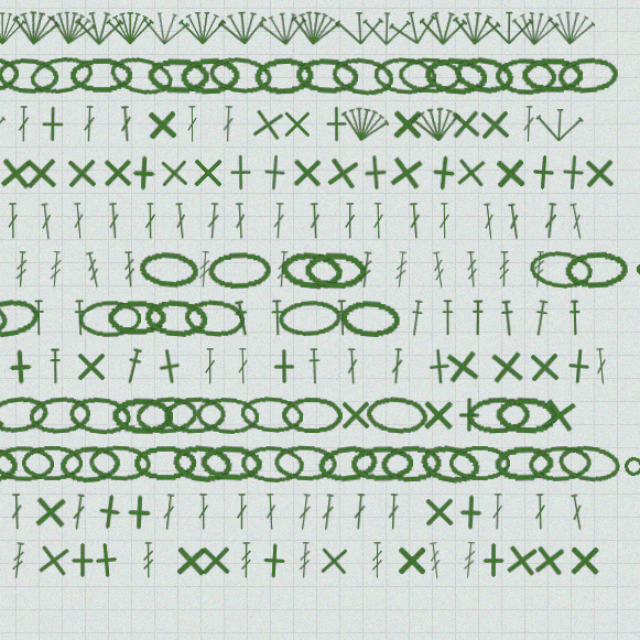chain: (146, 103, 208, 147), (428, 456, 488, 498), (556, 16, 617, 57), (74, 104, 135, 145), (25, 324, 86, 365), (459, 104, 518, 145), (237, 17, 297, 57), (348, 105, 408, 145), (499, 17, 560, 56), (237, 105, 298, 144), (528, 281, 589, 320), (554, 457, 613, 497), (35, 413, 95, 452), (336, 457, 394, 497), (59, 18, 119, 56), (260, 17, 318, 56), (0, 325, 58, 364), (204, 457, 262, 496), (471, 18, 530, 56), (302, 282, 361, 320), (110, 414, 169, 452), (387, 106, 447, 143), (355, 18, 414, 55), (433, 106, 492, 143), (179, 326, 238, 363), (74, 414, 133, 451), (171, 414, 230, 451), (266, 414, 325, 451), (380, 414, 439, 451), (174, 282, 231, 320), (226, 415, 286, 451), (9, 106, 67, 143), (554, 106, 612, 143), (316, 107, 375, 143), (301, 327, 360, 363), (528, 459, 587, 495), (387, 18, 444, 55), (215, 326, 272, 363), (45, 107, 103, 143), (102, 459, 160, 495), (267, 459, 325, 495), (297, 459, 356, 494), (447, 19, 504, 55), (357, 327, 414, 363), (10, 459, 67, 495), (121, 19, 179, 54), (410, 107, 468, 142), (561, 283, 619, 318), (197, 415, 255, 450), (472, 415, 530, 450), (34, 19, 90, 55), (301, 19, 358, 54), (498, 415, 555, 450), (129, 459, 186, 494), (230, 459, 287, 494), (394, 459, 451, 494), (529, 20, 587, 54), (237, 284, 295, 318), (212, 107, 268, 142), (279, 107, 335, 142), (94, 20, 151, 54), (184, 20, 241, 54), (211, 20, 268, 54), (182, 108, 239, 142), (498, 108, 555, 142), (120, 328, 177, 362), (367, 460, 424, 494), (4, 20, 60, 54), (325, 284, 381, 318), (150, 416, 206, 450), (42, 460, 98, 494), (497, 460, 553, 494), (333, 20, 390, 53), (416, 20, 473, 53), (112, 108, 169, 141), (304, 416, 361, 449), (170, 460, 227, 493), (522, 108, 578, 141), (68, 460, 124, 493), (456, 460, 512, 493), (158, 20, 213, 53), (146, 328, 201, 361)
double: (564, 240, 581, 274), (565, 504, 581, 538), (508, 240, 523, 274), (113, 504, 128, 538), (318, 504, 333, 538), (339, 504, 354, 538), (84, 240, 98, 274), (486, 240, 500, 274), (195, 504, 209, 538), (206, 240, 220, 273), (542, 240, 556, 273), (588, 372, 602, 405), (157, 152, 170, 185), (114, 240, 127, 273), (146, 240, 159, 273), (236, 240, 249, 273), (419, 240, 432, 273), (24, 372, 37, 405), (403, 372, 416, 405), (369, 504, 382, 537), (124, 152, 136, 185), (250, 152, 262, 185), (523, 152, 535, 185), (34, 240, 46, 273), (261, 240, 273, 273), (296, 240, 308, 273), (329, 240, 341, 273), (363, 372, 375, 405), (58, 504, 70, 537), (289, 504, 301, 537), (400, 504, 412, 537), (65, 152, 76, 185), (218, 152, 229, 185), (55, 240, 66, 273), (180, 240, 191, 273), (361, 240, 372, 273), (387, 240, 398, 273), (447, 240, 458, 273), (234, 372, 245, 405), (264, 372, 275, 405), (35, 504, 46, 537), (228, 504, 239, 537), (263, 504, 274, 537), (495, 504, 506, 537), (534, 504, 545, 537)
fan: (89, 60, 139, 101), (400, 60, 449, 101), (355, 148, 404, 189), (311, 62, 359, 100), (58, 62, 105, 100), (283, 62, 330, 100), (458, 62, 505, 100), (176, 62, 223, 99), (246, 62, 293, 99), (544, 62, 591, 99), (422, 150, 469, 187), (512, 63, 558, 99), (353, 63, 398, 98), (535, 151, 579, 186), (117, 64, 161, 98), (378, 64, 422, 98), (430, 64, 473, 98), (6, 64, 50, 97), (29, 64, 73, 97), (145, 64, 189, 97), (211, 64, 255, 97), (489, 64, 533, 97), (11, 152, 55, 185)
half_double: (160, 371, 180, 406), (259, 328, 278, 362), (531, 328, 549, 362), (419, 328, 435, 362), (502, 328, 518, 362), (115, 328, 128, 361), (294, 328, 307, 361), (353, 328, 366, 361), (449, 328, 462, 361), (476, 328, 489, 361), (328, 372, 341, 405), (78, 328, 90, 361), (565, 328, 577, 361), (93, 372, 105, 405)
noise: (613, 468, 635, 490), (2, 538, 23, 559), (5, 116, 24, 135), (625, 292, 640, 309)
single: (273, 150, 311, 188), (341, 194, 379, 232), (399, 194, 436, 231), (184, 370, 221, 407), (450, 370, 487, 407), (20, 414, 57, 451), (538, 414, 575, 451), (130, 502, 167, 539), (79, 546, 116, 583), (504, 546, 541, 583), (529, 546, 566, 583), (11, 195, 47, 231), (45, 195, 81, 231), (434, 195, 470, 231), (491, 371, 527, 407), (454, 151, 489, 186), (281, 195, 316, 230), (372, 195, 407, 230), (459, 195, 494, 230), (525, 195, 560, 230), (552, 195, 587, 230), (430, 371, 465, 406), (557, 371, 592, 406), (77, 503, 112, 538), (128, 547, 163, 582), (179, 152, 213, 186), (481, 152, 515, 186), (69, 196, 103, 230), (106, 196, 140, 230), (162, 196, 196, 230), (190, 196, 224, 230), (495, 196, 529, 230), (576, 196, 610, 230), (50, 372, 84, 406), (526, 372, 560, 406), (158, 504, 192, 538), (459, 504, 493, 538), (205, 548, 239, 582), (281, 548, 315, 582), (335, 548, 369, 582), (80, 152, 113, 185), (302, 152, 335, 185), (338, 152, 371, 185), (402, 152, 435, 185), (139, 196, 172, 229), (221, 196, 254, 229), (251, 196, 284, 229), (311, 196, 344, 229), (115, 372, 148, 405), (290, 372, 323, 405), (355, 416, 388, 449), (430, 416, 463, 449), (458, 416, 491, 449), (431, 504, 464, 537), (18, 548, 51, 581), (107, 548, 140, 581), (228, 548, 261, 581), (406, 548, 439, 581), (480, 548, 513, 581), (563, 548, 596, 581)
treble: (125, 284, 142, 318), (440, 284, 455, 318), (58, 548, 73, 582), (374, 284, 388, 318), (406, 284, 420, 318), (437, 548, 451, 582), (531, 284, 545, 317), (468, 548, 482, 581), (62, 284, 75, 317), (93, 284, 106, 317), (160, 284, 173, 317), (228, 284, 241, 317), (299, 284, 312, 317), (471, 284, 484, 317), (319, 548, 332, 581), (36, 284, 48, 317), (501, 284, 512, 317), (178, 548, 189, 581), (267, 548, 278, 581), (386, 548, 397, 581)
